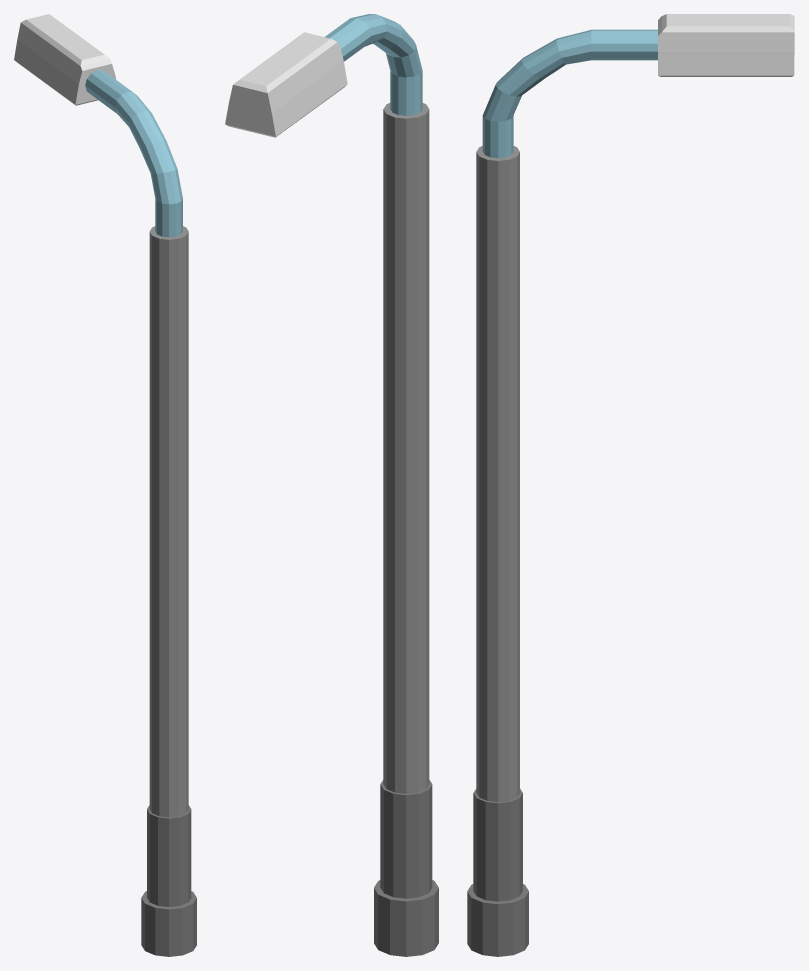
Rendered from Lantern.fbx.
3 renders of one model, left to right at view 1: azimuth 30°, elevation 25°; view 2: azimuth 150°, elevation 25°; view 3: azimuth 270°, elevation 25°, orthographic. The views are drawn at different scales.
Parts seen in each view (by area): view 1: Lantern; view 2: Lantern; view 3: Lantern.
Boxes of the visible parts, left/top/right/bottom form: Lantern: left=14, top=14, right=196, bottom=956; Lantern: left=225, top=14, right=438, bottom=956; Lantern: left=467, top=14, right=794, bottom=956.
Size of the model in its own units: 23.24 by 383 by 123.
